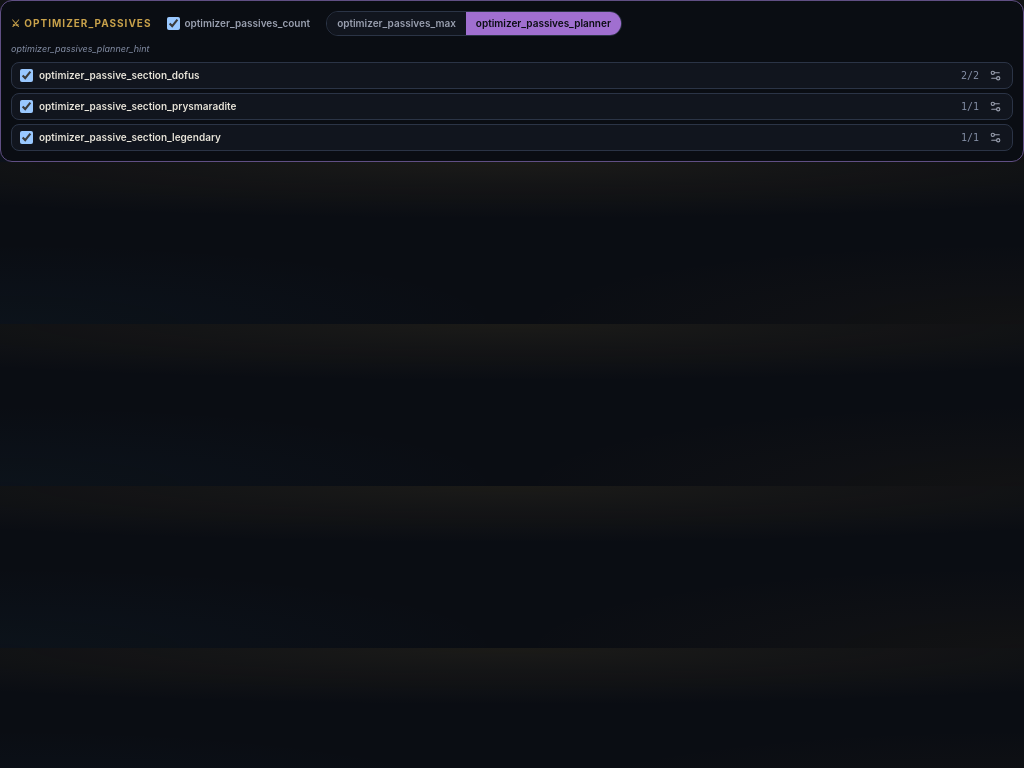
it: ForgePassivesBlock › in planner mode an item the player never set says so
Click the button named "optimizer_passive_section_configure" in the row of "optimizer_passive_section_dofus" at (996, 75), box top-left (987, 66), bottom-right (1004, 84)
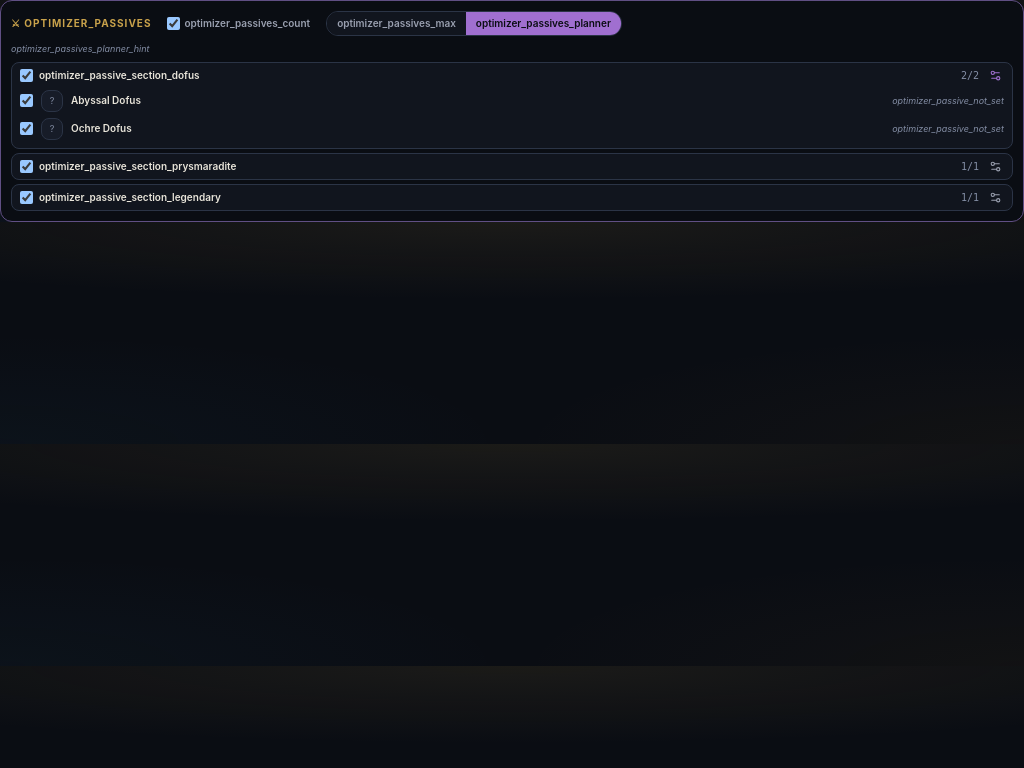
Expected: the text "optimizer_passive_not_set" is shown 2 times, top-left (892, 94), bottom-right (1004, 107); top-left (892, 122), bottom-right (1004, 135)
